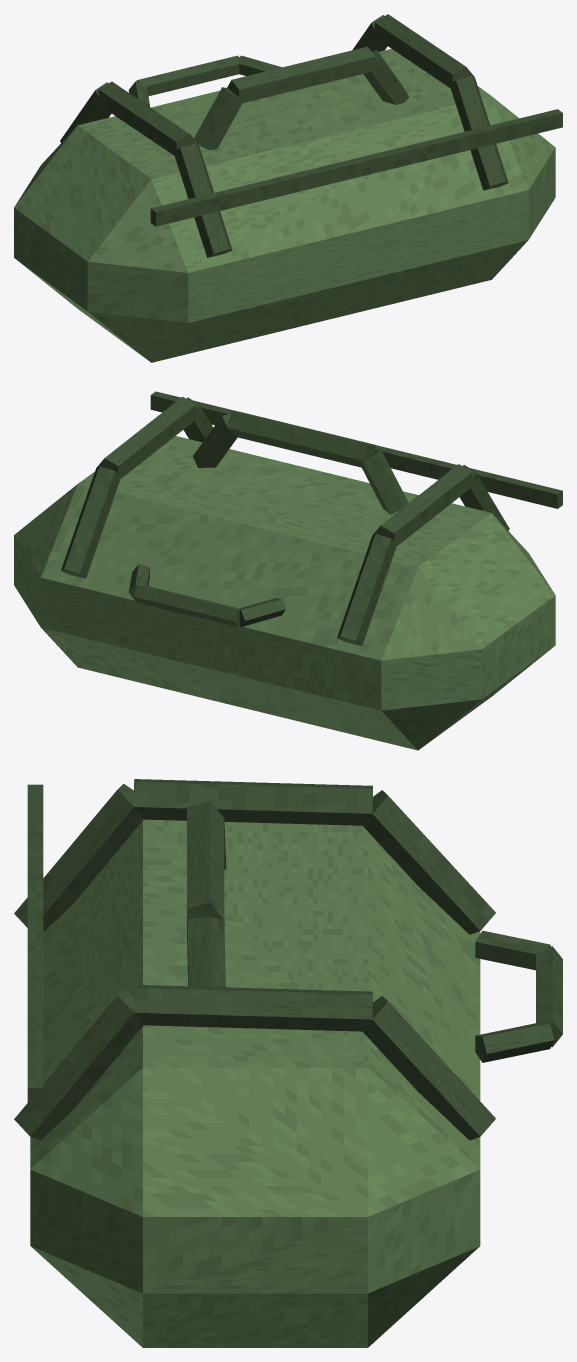
File: duffelbag_gym_m.glb
3 views of the same model, one above another, from view 1: azimuth 30°, elevation 25°; view 2: azimuth 150°, elevation 25°; view 3: azimuth 270°, elevation 25° (orthographic). The views are drawn at different scales.
Visible parts, largest first — view 1: block_bag shell, block_zipper, block_webbing strap 1 (×2), block_webbing strap 2 (×2), block_bridging grab handle 1, block_carry handle 1, block_bridging grab handle 0, block_webbing strap 0 (×2), block_bridging grab handle 2, block_carry handle 2; view 2: block_bag shell, block_webbing strap 0 (×2), block_webbing strap 1 (×2), block_zipper, block_bridging grab handle 1, block_carry handle 1, block_bridging grab handle 0, block_webbing strap 2 (×2), block_bridging grab handle 2, block_carry handle 0, block_carry handle 2; view 3: block_bag shell, block_webbing strap 1 (×2), block_webbing strap 0 (×2), block_webbing strap 2 (×2), block_zipper, block_bridging grab handle 1, block_bridging grab handle 2, block_carry handle 2, block_carry handle 1, block_carry handle 0.
Boxes of the visible parts, x1,y1,x2,y2 form: block_bag shell: (14, 49, 555, 362); block_zipper: (150, 109, 562, 226); block_webbing strap 1 (×2): (98, 14, 474, 156); block_webbing strap 2 (×2): (173, 75, 508, 257); block_bridging grab handle 1: (227, 46, 375, 102); block_carry handle 1: (136, 55, 239, 96); block_bridging grab handle 0: (194, 87, 244, 150); block_webbing strap 0 (×2): (60, 15, 387, 142); block_bridging grab handle 2: (363, 49, 408, 104); block_carry handle 2: (239, 55, 281, 76); block_bag shell: (14, 436, 555, 750); block_webbing strap 0 (×2): (61, 466, 397, 645); block_webbing strap 1 (×2): (96, 396, 472, 547); block_zipper: (150, 391, 562, 508); block_bridging grab handle 1: (227, 411, 375, 467); block_carry handle 1: (133, 585, 239, 626); block_bridging grab handle 0: (362, 450, 408, 514); block_webbing strap 2 (×2): (183, 397, 509, 530); block_bridging grab handle 2: (193, 414, 237, 467); block_carry handle 0: (239, 598, 285, 626); block_carry handle 2: (128, 564, 149, 601); block_bag shell: (30, 819, 480, 1347); block_webbing strap 1 (×2): (134, 779, 372, 1031); block_webbing strap 0 (×2): (363, 790, 495, 1140); block_webbing strap 2 (×2): (14, 783, 143, 1139); block_zipper: (27, 784, 43, 1110); block_bridging grab handle 1: (187, 801, 224, 919); block_bridging grab handle 2: (186, 917, 225, 987); block_carry handle 2: (475, 1023, 554, 1062); block_carry handle 1: (536, 946, 562, 1047); block_carry handle 0: (475, 930, 550, 970).
Bounding box in the file's own units: 0.3826 × 0.1891 × 0.2545.
Materials: 1 (1 with a texture image).
